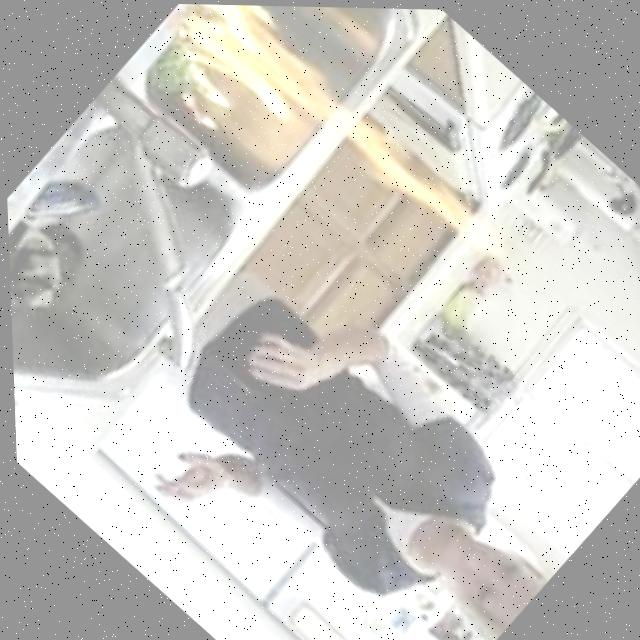Fire: (158, 3, 525, 299), (151, 49, 242, 136)
